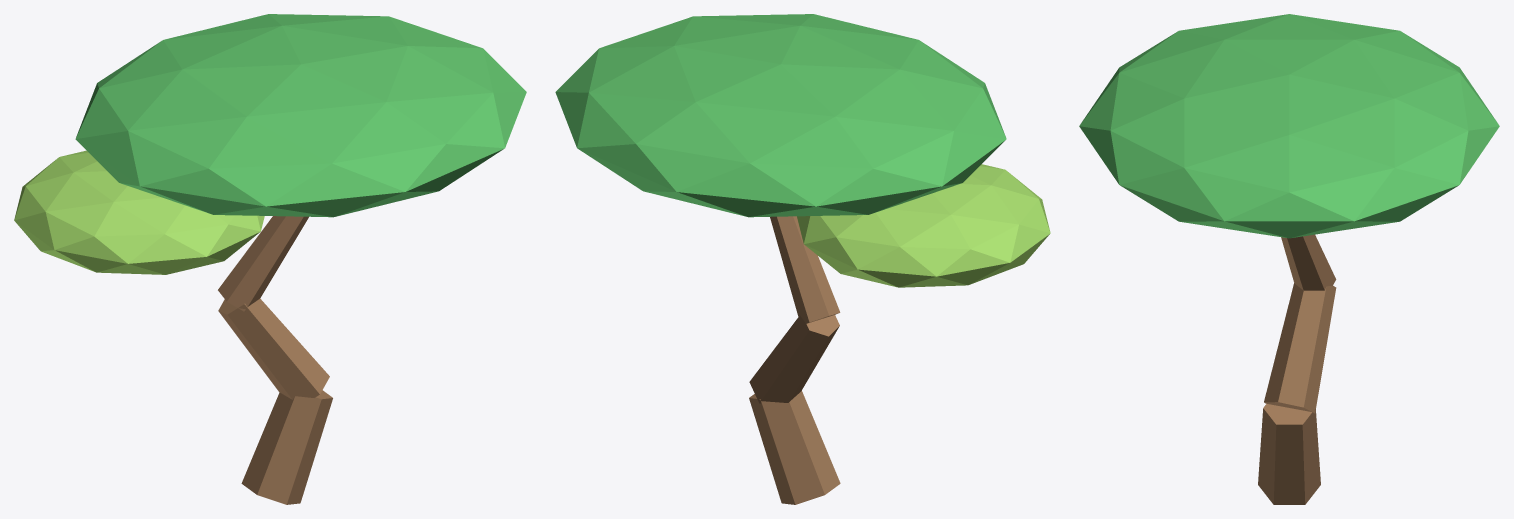
Rendered from Tree_09_Bonsai.fbx.
3 renders of one model, left to right at view 1: azimuth 30°, elevation 25°; view 2: azimuth 150°, elevation 25°; view 3: azimuth 270°, elevation 25°, orthographic.
Parts seen in each view (by area): view 1: Tree_09_Bonsai; view 2: Tree_09_Bonsai; view 3: Tree_09_Bonsai.
Part boxes in pixels (bbox=[...]): Tree_09_Bonsai: bbox=[14, 14, 526, 504]; Tree_09_Bonsai: bbox=[555, 14, 1050, 504]; Tree_09_Bonsai: bbox=[1079, 14, 1499, 504].
Bounding box in the file's own units: 5.99 × 5.47 × 4.8.
